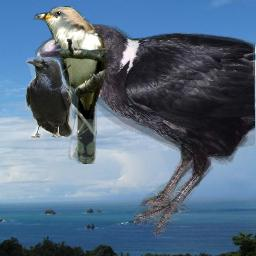Crow: (35, 23, 255, 238), (25, 57, 72, 138)
Cuckoo: (33, 6, 109, 164)
